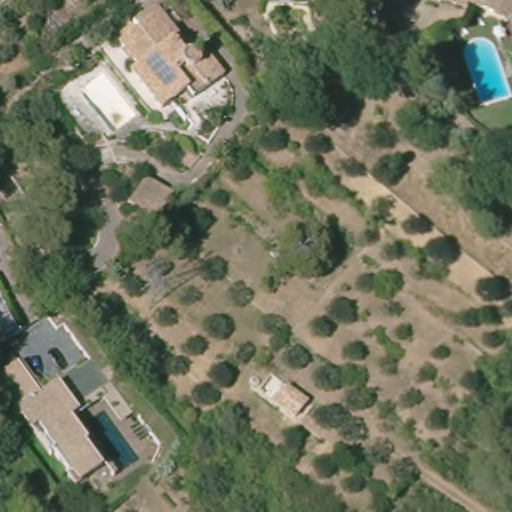pool: (456, 36, 512, 105)
